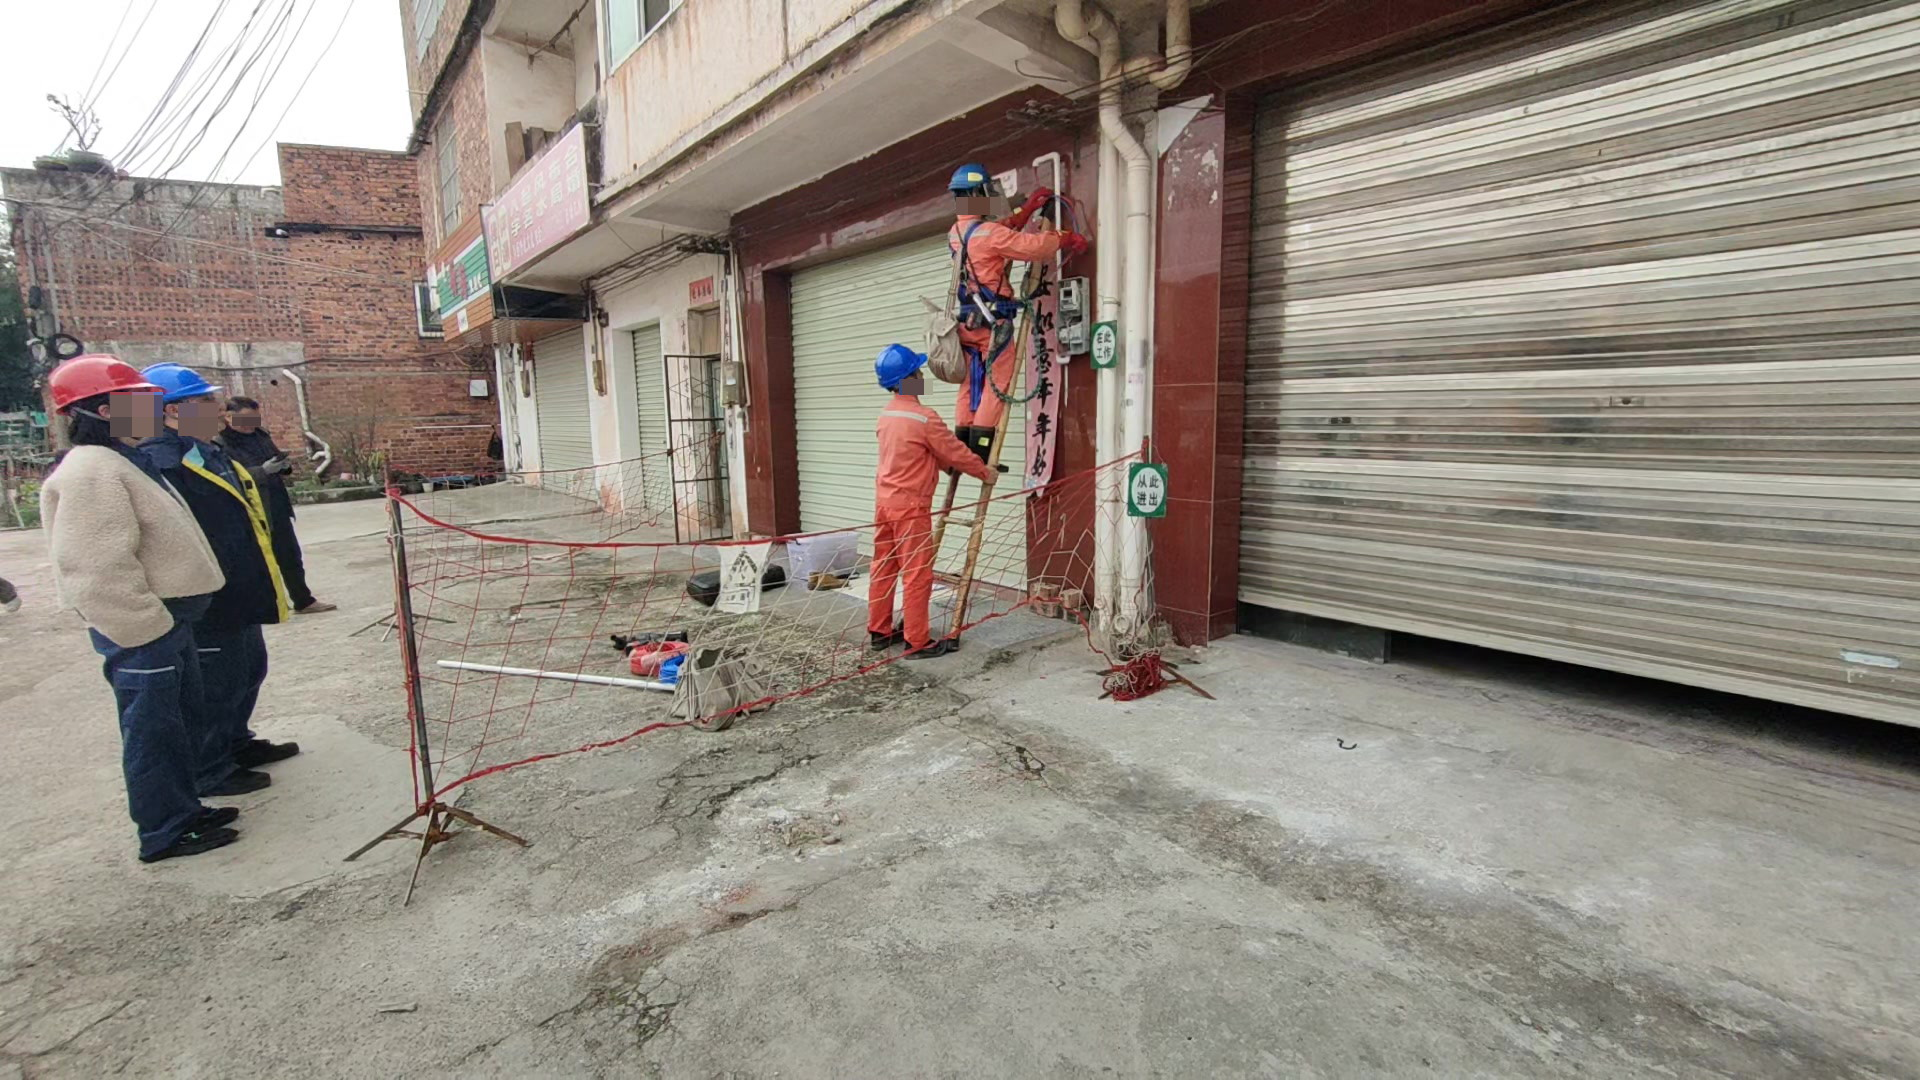downsuit: (91, 617, 208, 833)
halt: (45, 351, 151, 434), (142, 361, 217, 437), (875, 342, 927, 396), (948, 163, 996, 213)
hand: (982, 463, 1000, 487)
inear: (70, 392, 147, 444), (159, 396, 220, 436), (901, 370, 926, 396), (966, 187, 989, 213)
intosign: (1130, 464, 1167, 518)
longglove: (1006, 185, 1053, 230), (1054, 226, 1089, 257)
noear: (218, 408, 243, 426)
person: (40, 352, 243, 868), (941, 158, 1083, 457), (859, 337, 967, 653), (210, 392, 321, 612)
safebelt: (934, 209, 1055, 421)
shoe: (966, 426, 1012, 475)
support: (858, 342, 999, 661)
upcloth: (32, 442, 227, 641)
worksign: (1092, 325, 1122, 365)
ydownsuit: (857, 508, 952, 644), (943, 320, 1024, 432)
yupsuit: (867, 391, 987, 511), (940, 212, 1063, 327)
